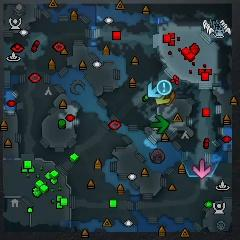Other: (157, 80, 172, 95)
x1: (193, 159, 211, 179)
x2: (155, 96, 169, 106)
x3: (147, 81, 162, 98)
x4: (151, 115, 169, 134)
x5: (162, 92, 176, 106)
